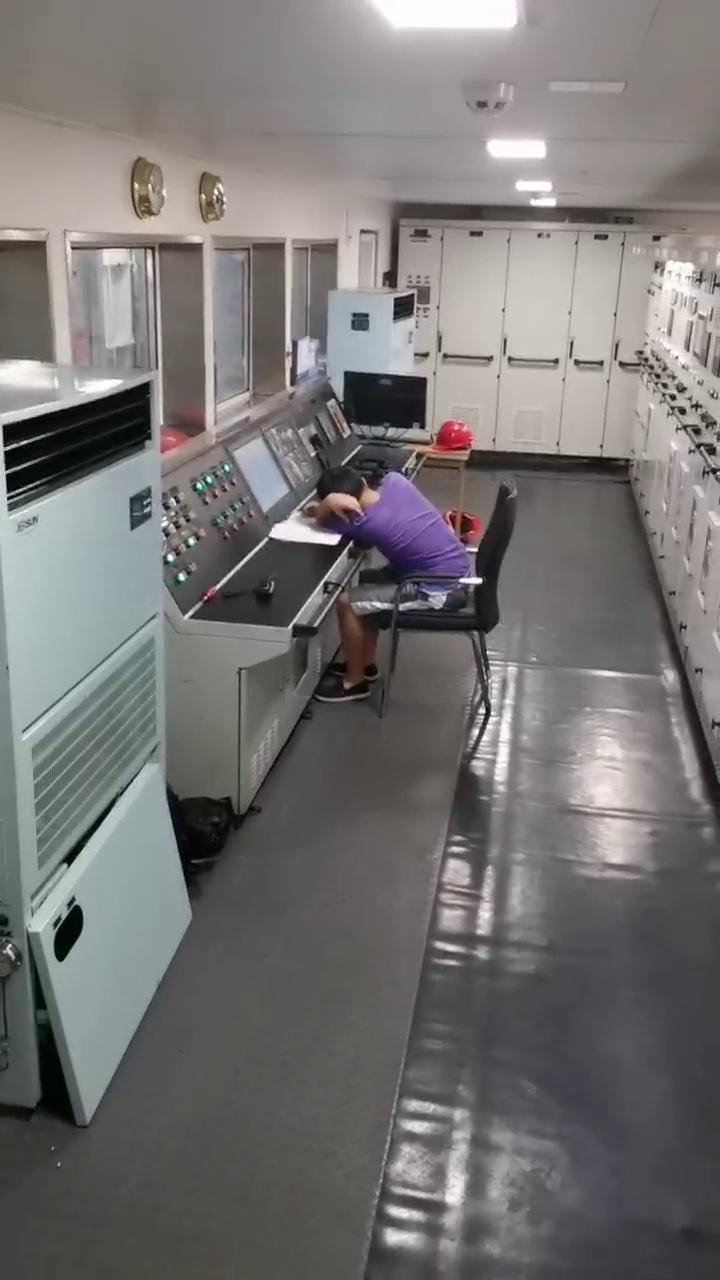sleep: (310, 464, 493, 610)
